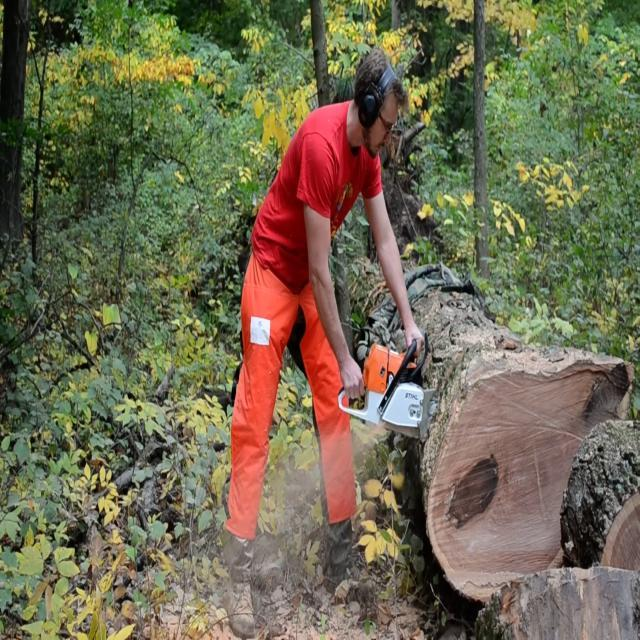Chainsaw: (320, 314, 467, 454)
